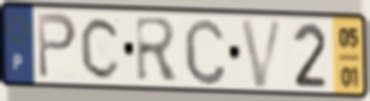2: (290, 20, 329, 91)
C: (182, 15, 229, 88), (78, 14, 123, 82)
P: (35, 11, 79, 82)
R: (133, 14, 182, 84)
V: (238, 17, 287, 90)
